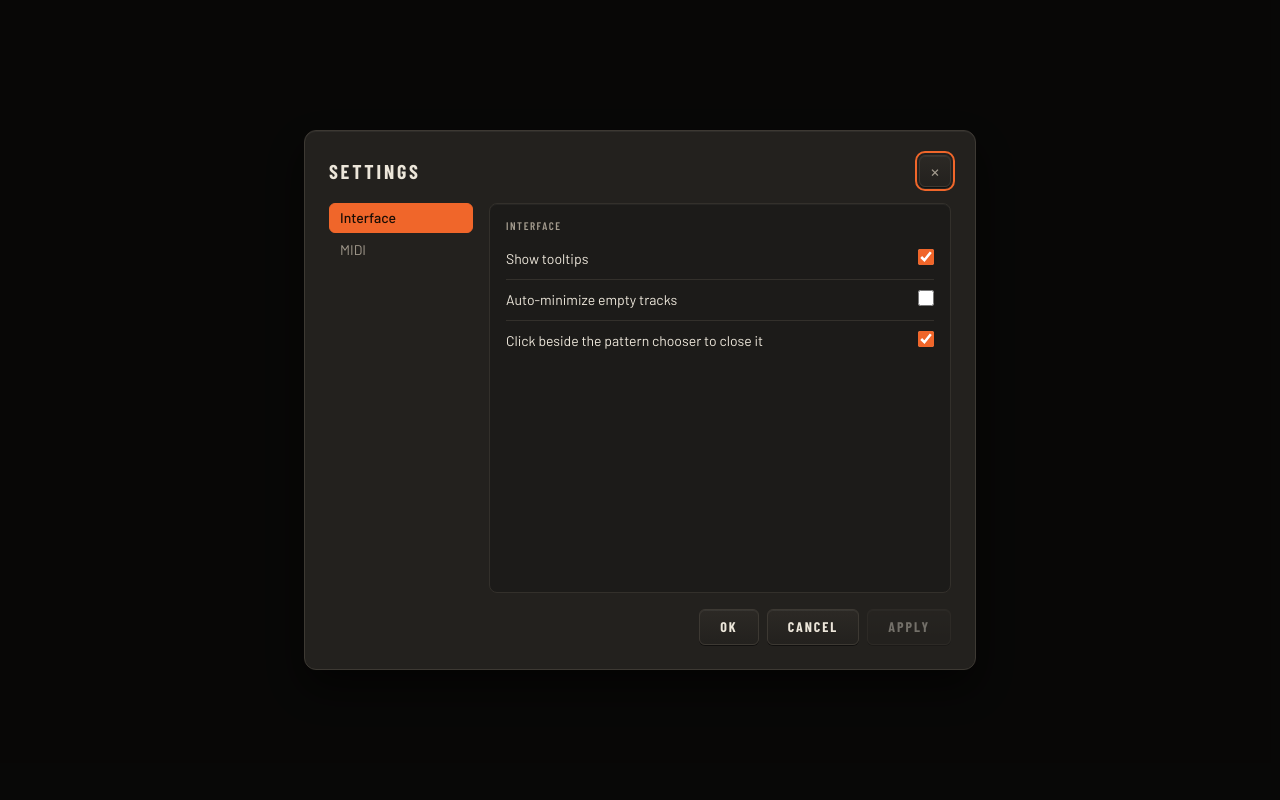
SettingsModal › Apply goes back to disabled when a change is undone
What coordinates should you click on to do the following:
click the checkbox labelled "Auto-minimize empty tracks"
I would click on:
 (926, 298)
Its box is [918,290,934,306].
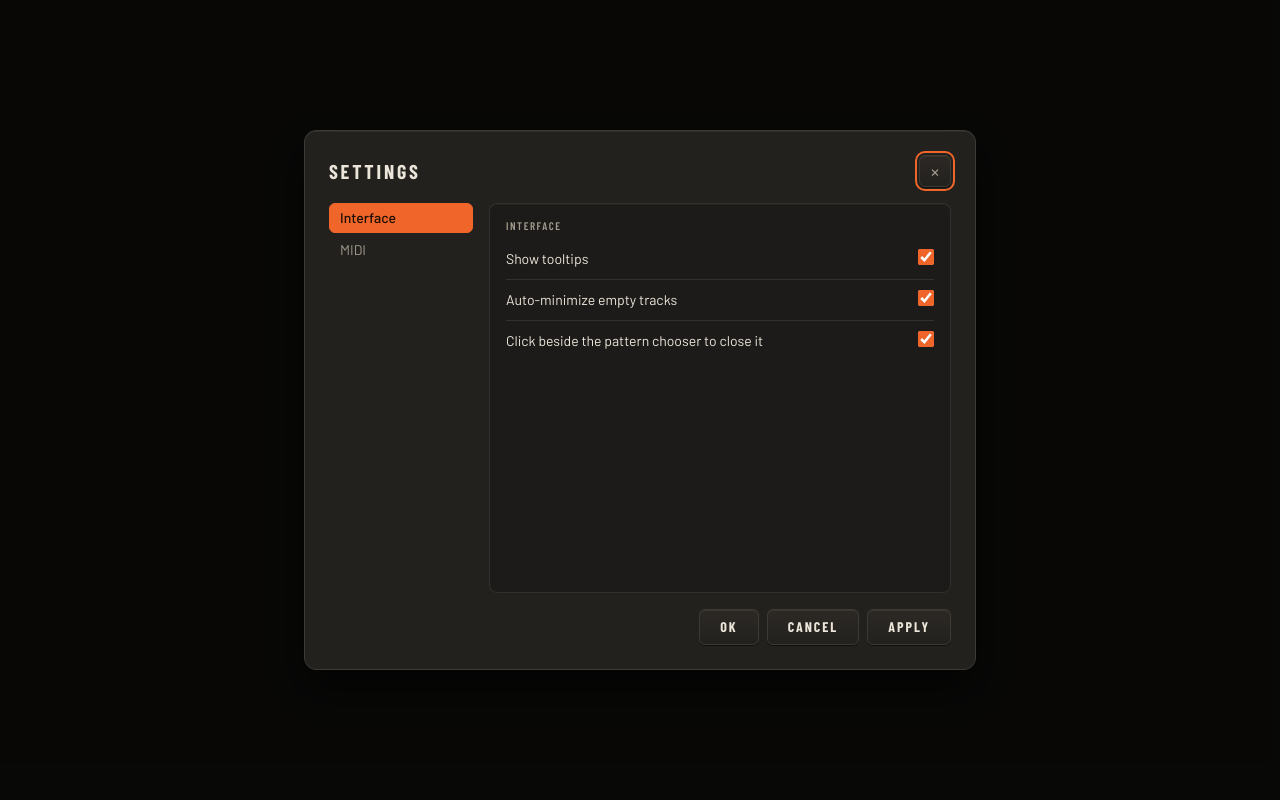
What coordinates should you click on to do the following:
click the checkbox labelled "Auto-minimize empty tracks"
I would click on:
 (926, 298)
Its box is [918,290,934,306].
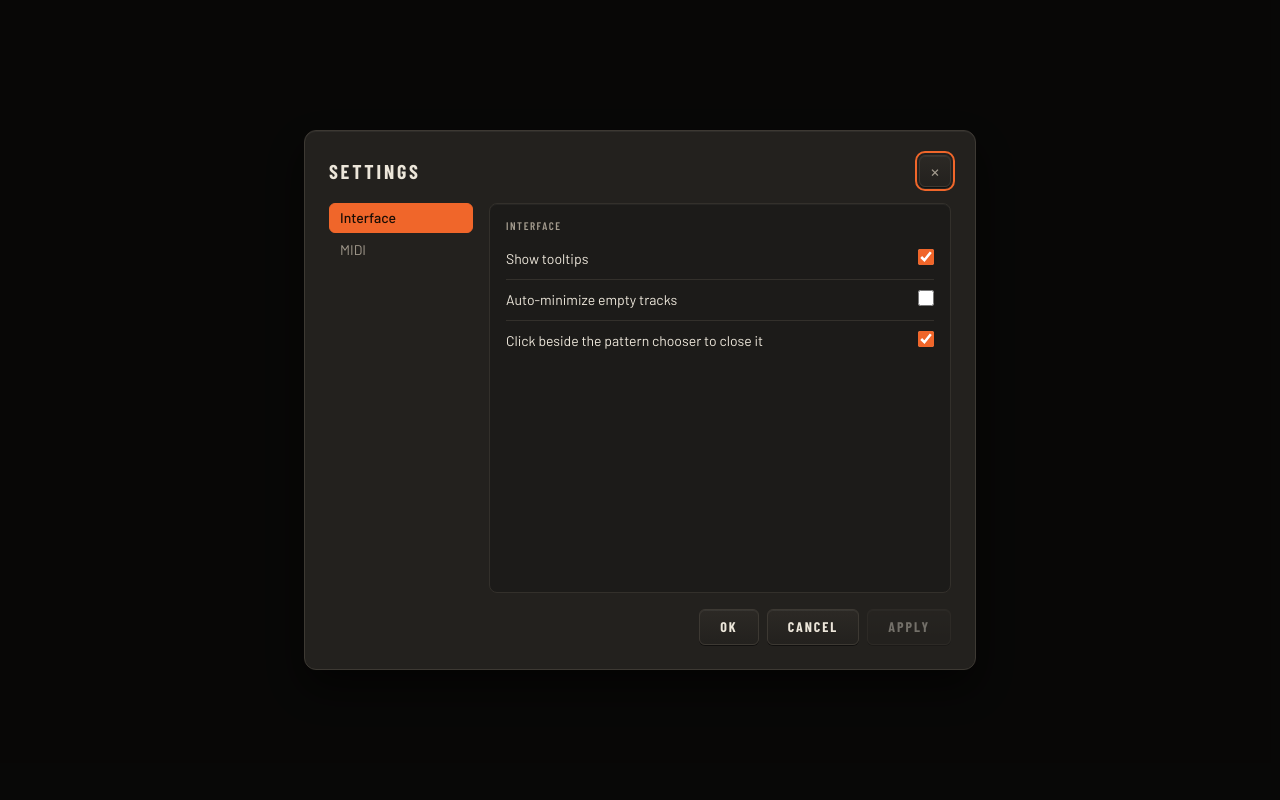
Now the button "Apply" is disabled, box [867,609,951,645]
